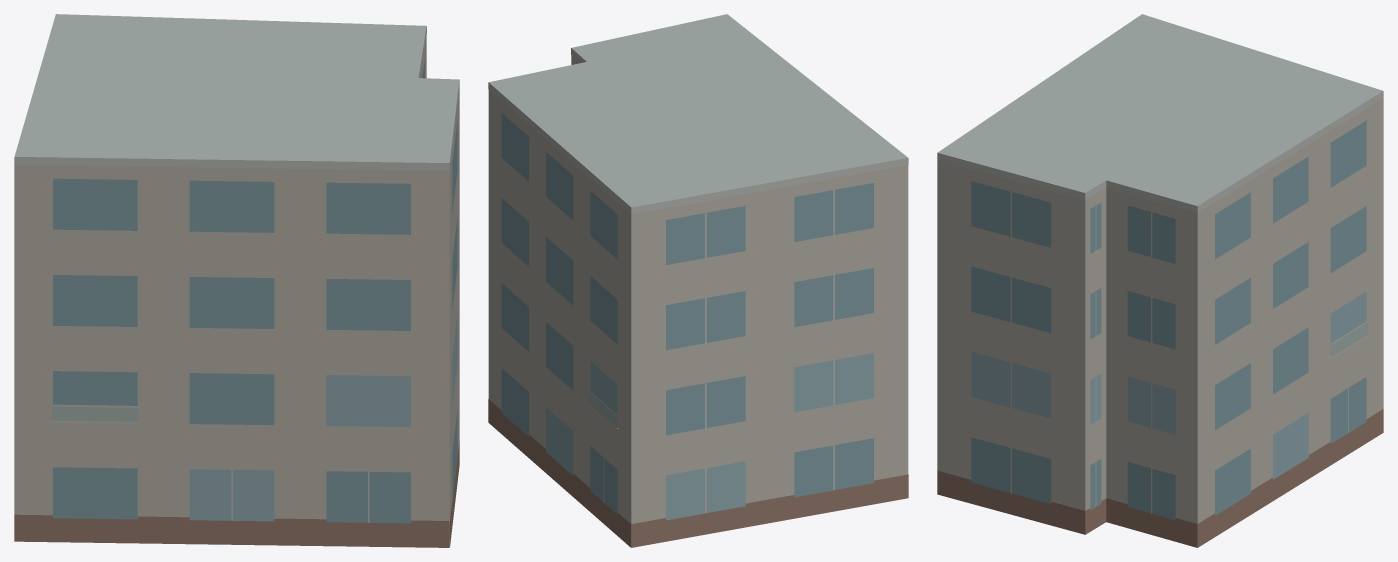
Rendered from survey-upis-32934732.glb.
3 views of the same model, side by side, from view 1: azimuth 30°, elevation 25°; view 2: azimuth 150°, elevation 25°; view 3: azimuth 270°, elevation 25° (orthographic). The views are drawn at different scales.
Parts seen in each view (by area): view 1: survey-upis-32934732.tmp; view 2: survey-upis-32934732.tmp; view 3: survey-upis-32934732.tmp.
Part boxes in pixels (x1=…): survey-upis-32934732.tmp: x1=14, y1=14, x2=459, y2=547; survey-upis-32934732.tmp: x1=488, y1=14, x2=908, y2=547; survey-upis-32934732.tmp: x1=937, y1=14, x2=1383, y2=547.
Bounding box in the file's own units: 14.18 × 11.75 × 13.92.
